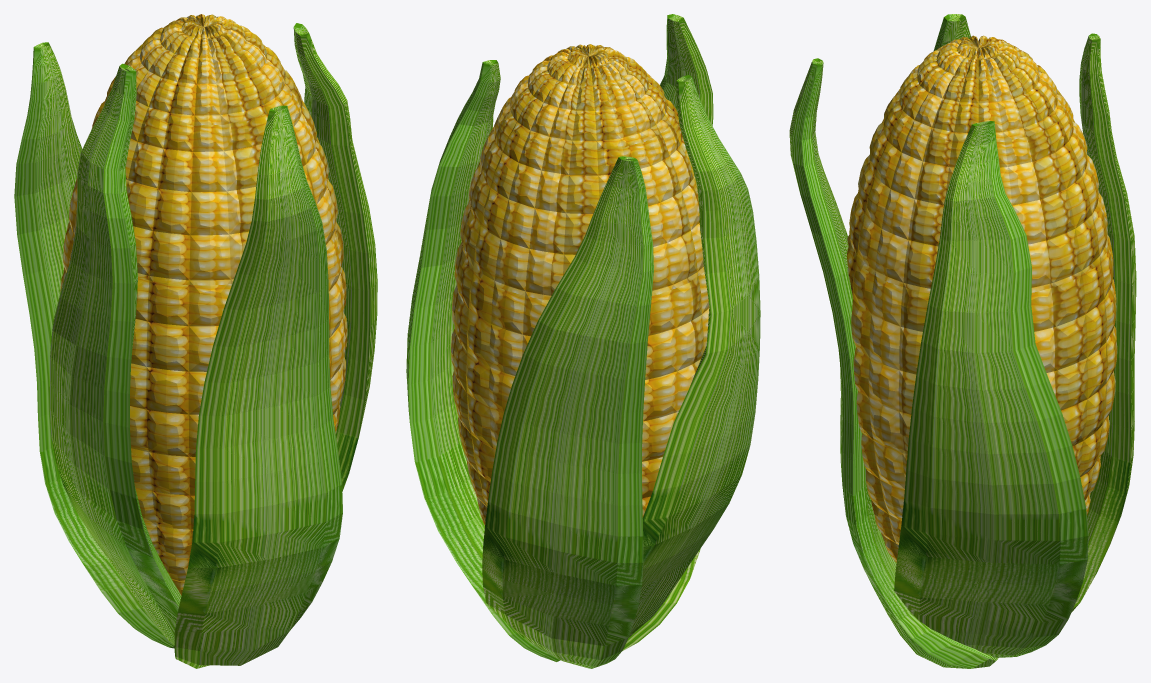
File: BulletMilho.fbx
3 views of the same model, side by side, from view 1: azimuth 30°, elevation 25°; view 2: azimuth 150°, elevation 25°; view 3: azimuth 270°, elevation 25° (orthographic). The views are drawn at different scales.
Parts seen in each view (by area): view 1: milho; view 2: milho; view 3: milho.
Boxes of the visible parts, x1,y1,x2,y2 form: milho: (14,14,377,668); milho: (406,14,760,668); milho: (789,14,1136,668).
Bounding box in the file's own units: 266 × 520 × 266.
